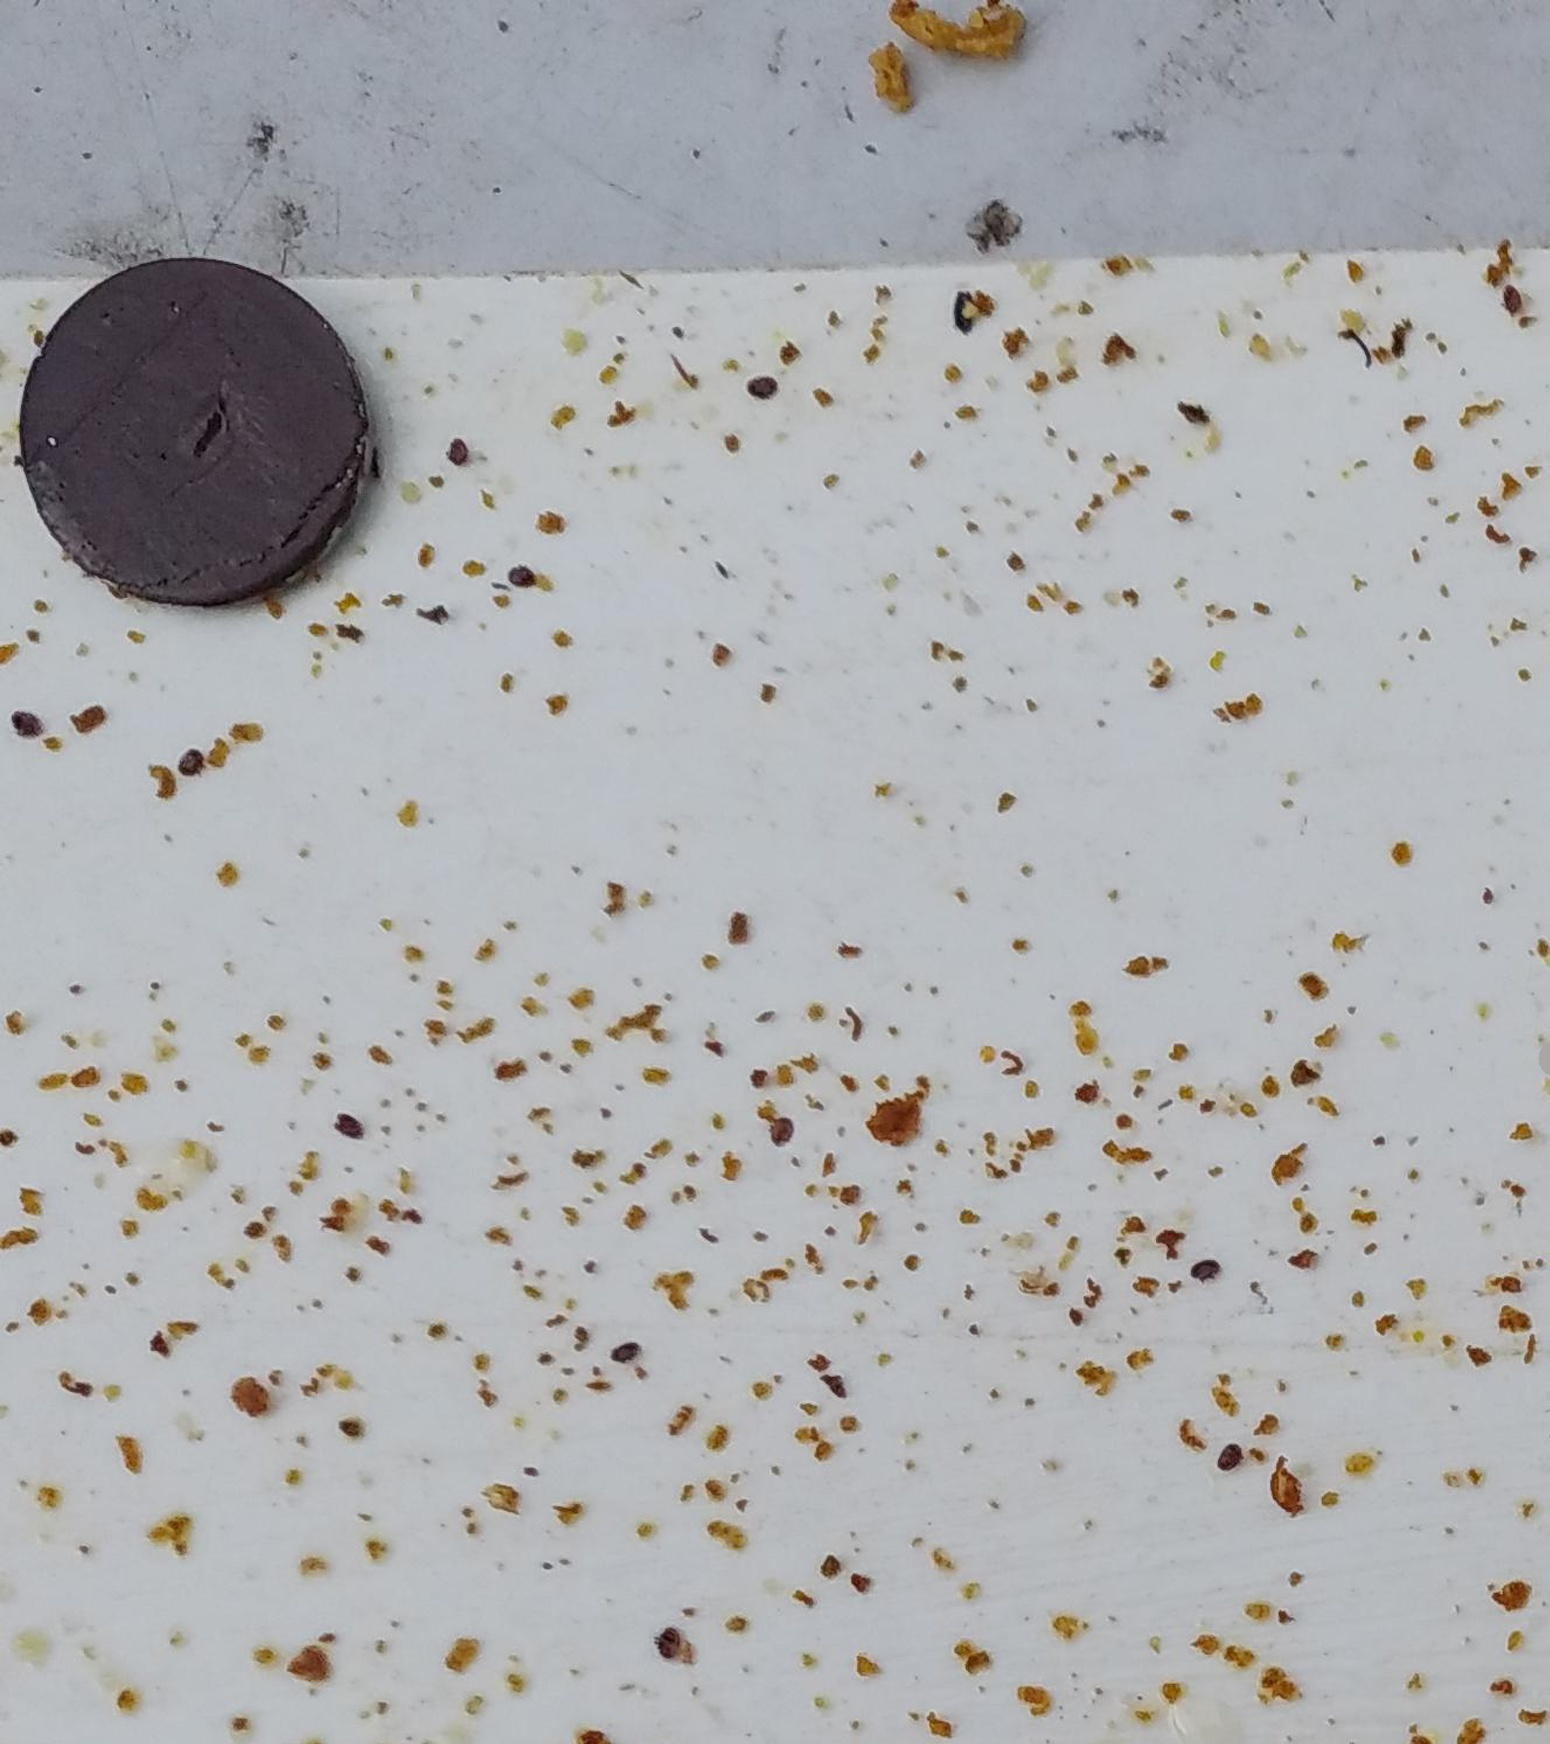Varroa: (1215, 1446, 1243, 1476), (1192, 1252, 1221, 1280), (750, 372, 779, 399), (655, 1624, 682, 1651), (15, 710, 40, 734), (180, 745, 203, 770), (340, 1111, 362, 1138), (1501, 286, 1525, 310), (449, 440, 471, 465), (512, 559, 534, 585), (615, 1334, 637, 1360), (779, 1122, 793, 1137)
